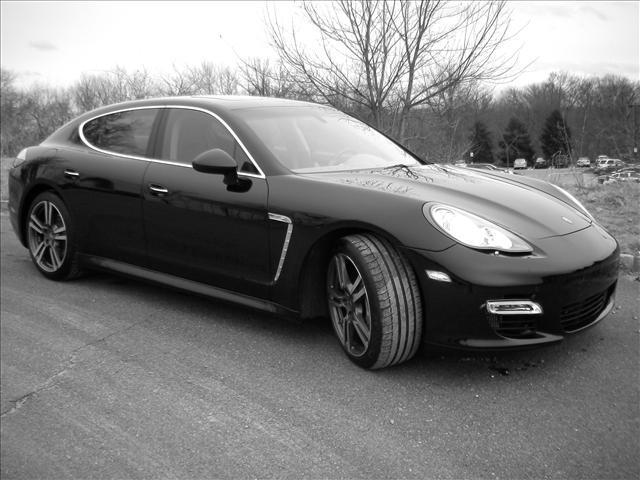car: (8, 95, 623, 375)
